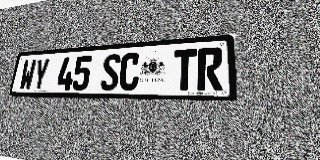4: (56, 57, 76, 90)
5: (72, 55, 92, 90)
C: (118, 52, 141, 91)
R: (197, 47, 222, 91)
S: (100, 54, 121, 91)
T: (173, 49, 197, 91)
W: (18, 59, 37, 90)
Y: (31, 58, 50, 90)
